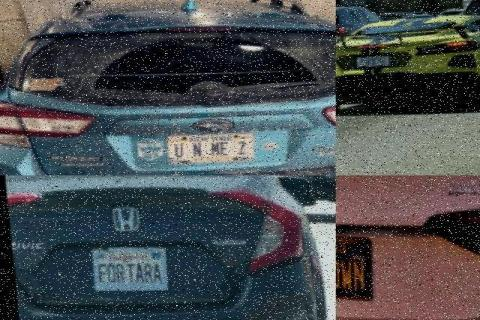LicensePlate: (88, 244, 168, 296), (336, 233, 386, 304), (159, 135, 248, 167), (350, 56, 385, 71), (322, 176, 336, 183)
